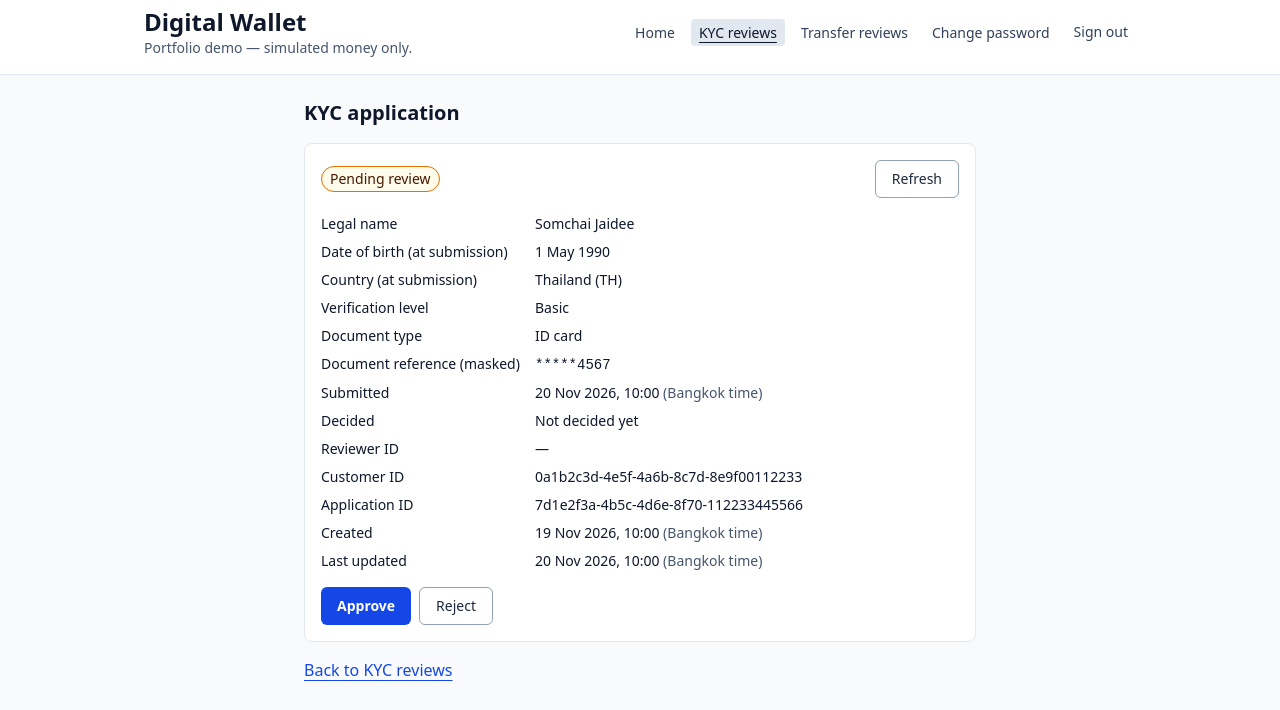
Test case: Approve › explains a 409 (decided meanwhile) and reloads the detail
Click the button "Approve": coordinates (366, 606) x1=321 y1=587 x2=411 y2=625
(page scrolled)
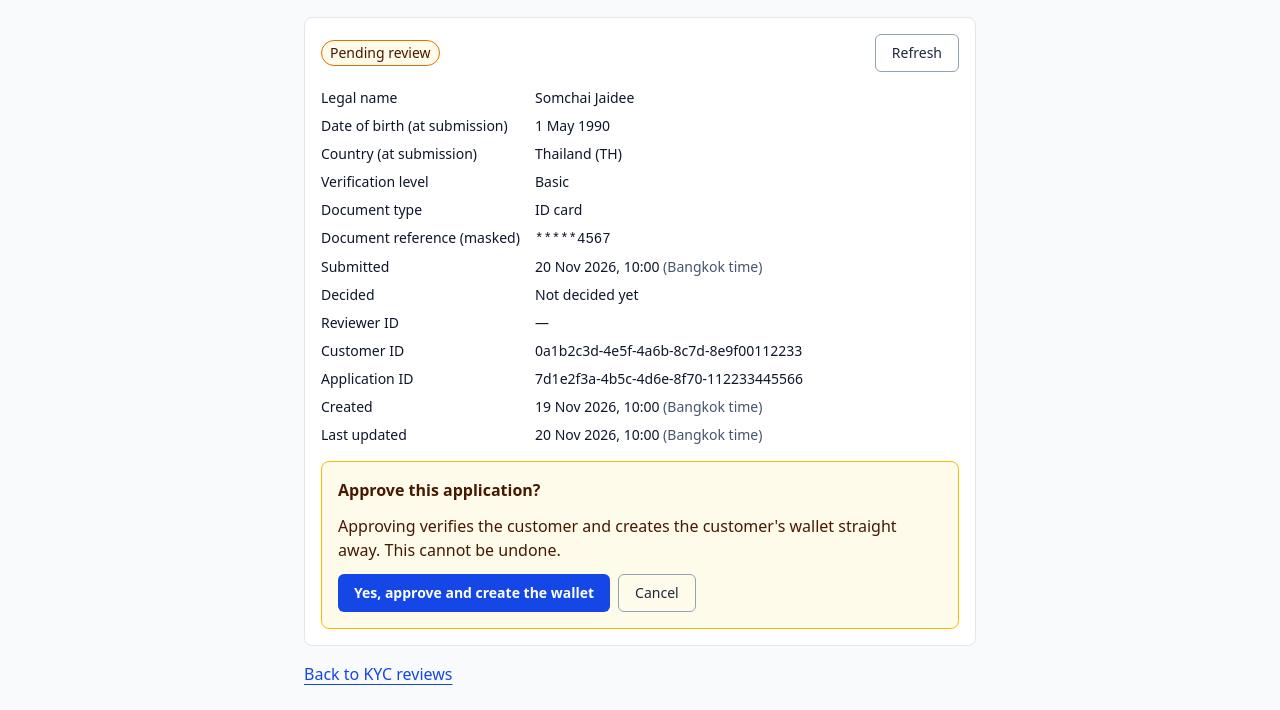
Click the button "Yes, approve and create the wallet": coordinates (474, 593) x1=338 y1=574 x2=610 y2=612
(page scrolled)
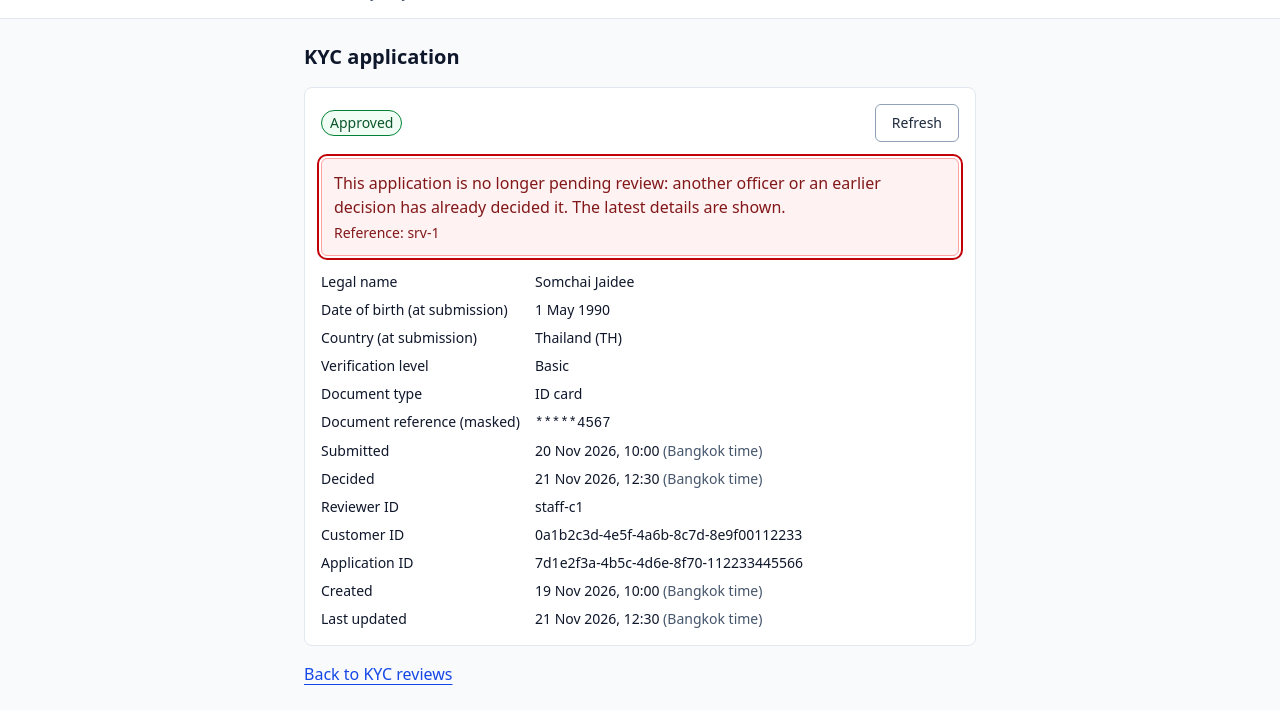
Expected: the message does not show "PENDING_REVIEW", x1=321 y1=158 x2=959 y2=256
Expected: the message shows "This application is no longer pending review: another officer or an earlier decision has already decided it. The latest details are shown.", x1=334 y1=172 x2=881 y2=218
Expected: the text "Approved" is shown, x1=321 y1=110 x2=402 y2=136
